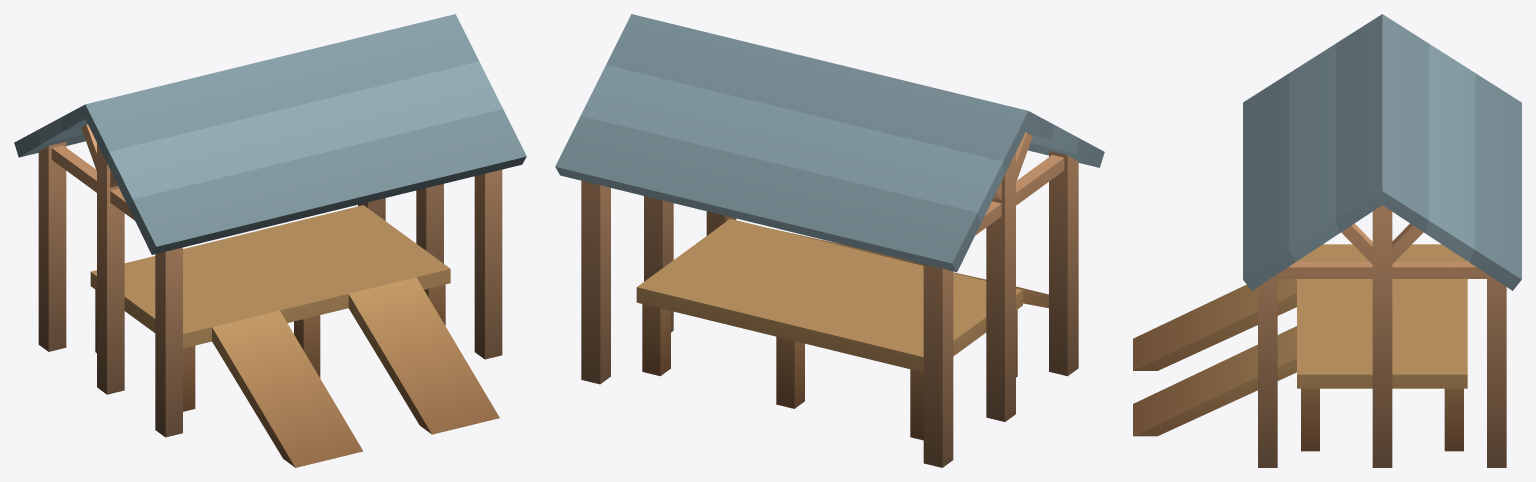
The model's file is sawmill pavilion.fbx.
3 views of the same model, side by side, from view 1: azimuth 30°, elevation 25°; view 2: azimuth 150°, elevation 25°; view 3: azimuth 270°, elevation 25° (orthographic). The views are drawn at different scales.
Visible parts, largest first — view 1: sawmill_pavilion; view 2: sawmill_pavilion; view 3: sawmill_pavilion.
Boxes of the visible parts, bbox=[...] form: sawmill_pavilion: bbox=[14, 14, 526, 467]; sawmill_pavilion: bbox=[555, 14, 1104, 467]; sawmill_pavilion: bbox=[1133, 14, 1521, 467].
Bounding box in the file's own units: 597 × 448 × 554.
Materials: 1 (1 with a texture image).
